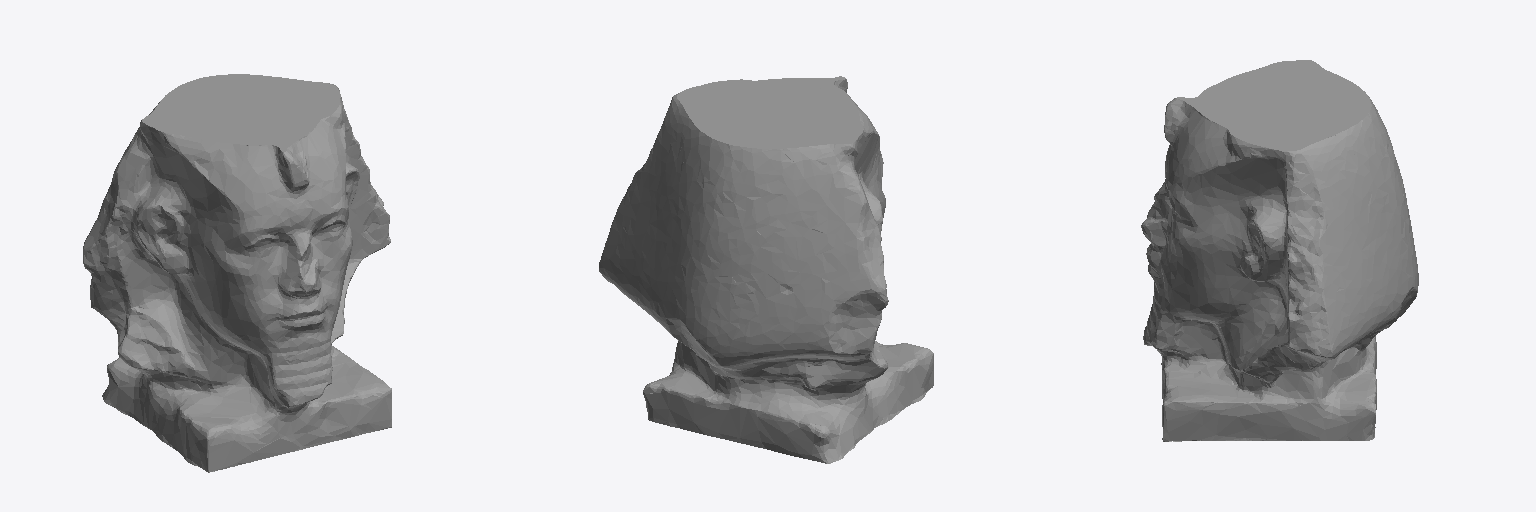
3 views of the same model, side by side, from view 1: azimuth 30°, elevation 25°; view 2: azimuth 150°, elevation 25°; view 3: azimuth 270°, elevation 25° (orthographic).
Parts seen in each view (by area): view 1: sculpt; view 2: sculpt; view 3: sculpt.
Boxes of the visible parts, x1,y1,x2,y2 form: sculpt: [83, 74, 391, 472]; sculpt: [599, 76, 933, 463]; sculpt: [1141, 60, 1418, 441].
Size of the model in its own units: 4.52 by 4.36 by 3.71.